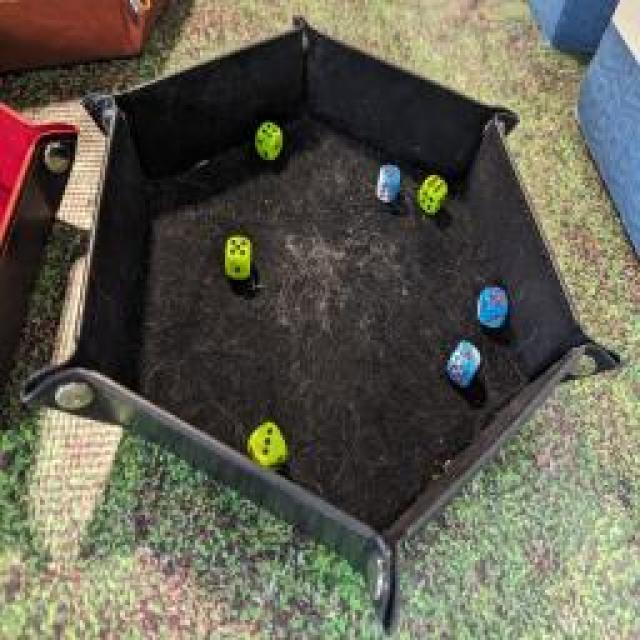dice_1: (444, 337, 484, 395)
dice_3: (246, 417, 289, 475), (375, 157, 403, 205)
dice_4: (254, 115, 286, 163)
dice_5: (470, 286, 510, 329), (224, 235, 256, 283)
dice_6: (416, 170, 449, 212)
